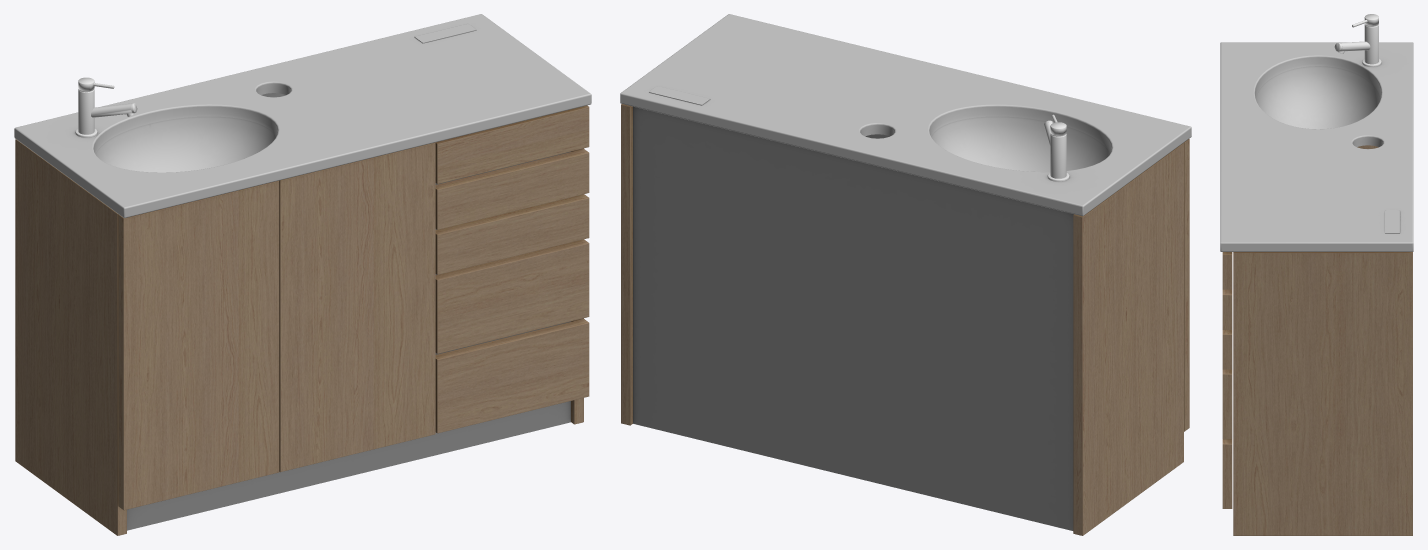
File: 歯医者キャビネット.gltf
3 renders of one model, left to right at view 1: azimuth 30°, elevation 25°; view 2: azimuth 150°, elevation 25°; view 3: azimuth 270°, elevation 25°, orthographic. The views are drawn at different scales.
Visible parts, largest first — view 1: Box8223995, Box8223993, stitch_result_stitch_all090_2; view 2: Box8223993, Box8223995, stitch_result_stitch_all090_2; view 3: Box8223995, Box8223993, stitch_result_stitch_all090_2.
Part boxes in pixels (x1,y1,x2,y2): Box8223995: (15,105,589,535); Box8223993: (14,14,591,530); stitch_result_stitch_all090_2: (75,77,137,137); Box8223993: (620,14,1191,530); Box8223995: (621,104,1189,535); stitch_result_stitch_all090_2: (1044,114,1069,181); Box8223995: (1222,145,1412,535); Box8223993: (1220,42,1413,251); stitch_result_stitch_all090_2: (1334,14,1381,66).
Size of the model in its own units: 1.35 by 1.06 by 0.55.
Materials: 6 (5 with a texture image).
